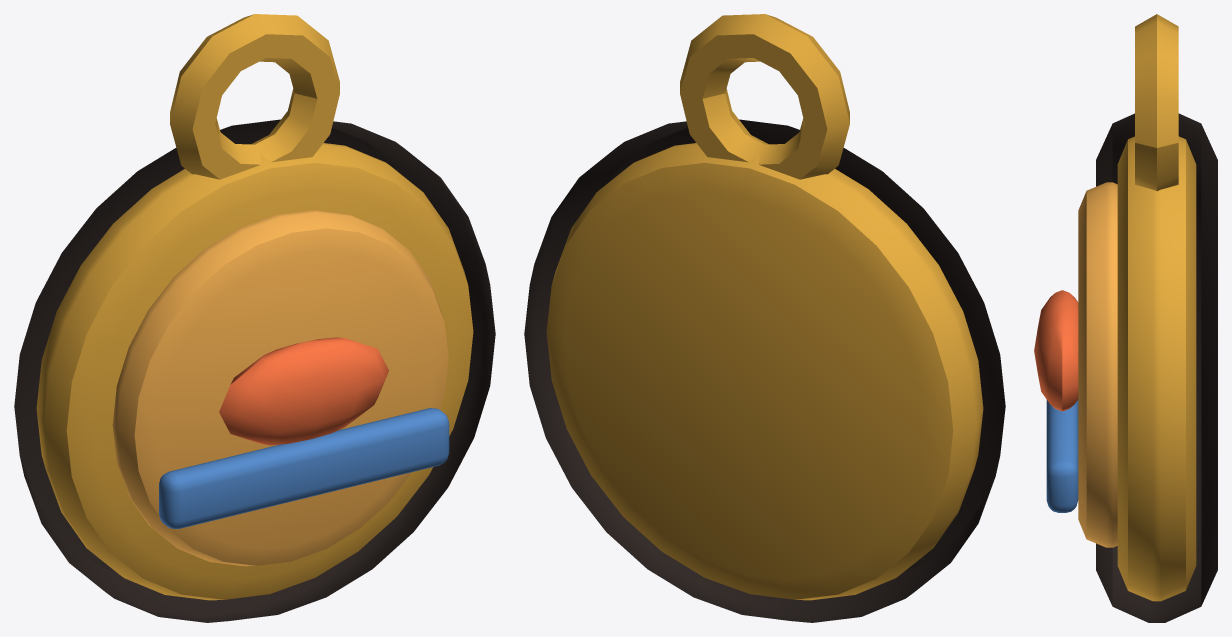
The model's file is col_tag.fbx.
3 renders of one model, left to right at view 1: azimuth 30°, elevation 25°; view 2: azimuth 150°, elevation 25°; view 3: azimuth 270°, elevation 25°, orthographic. The views are drawn at different scales.
Visible parts, largest first — view 1: col_tag_C_E2A93B, col_tag_C_F6B04E, col_tag_Outline, col_tag_C_4F86C9, col_tag_C_F7703E; view 2: col_tag_C_E2A93B, col_tag_Outline; view 3: col_tag_C_E2A93B, col_tag_Outline, col_tag_C_F6B04E, col_tag_C_F7703E, col_tag_C_4F86C9.
Part boxes in pixels (x1,y1,x2,y2): col_tag_C_E2A93B: (36, 14, 473, 600); col_tag_C_F6B04E: (112, 210, 448, 566); col_tag_Outline: (14, 119, 495, 622); col_tag_C_4F86C9: (159, 408, 449, 528); col_tag_C_F7703E: (219, 337, 389, 445); col_tag_C_E2A93B: (546, 14, 983, 600); col_tag_Outline: (524, 119, 1005, 622); col_tag_C_E2A93B: (1117, 14, 1196, 601); col_tag_Outline: (1096, 113, 1217, 622); col_tag_C_F6B04E: (1078, 182, 1117, 547); col_tag_C_F7703E: (1034, 290, 1078, 411); col_tag_C_4F86C9: (1046, 399, 1078, 512).
Bounding box in the file's own units: 0.1637 × 0.2019 × 0.0583.
